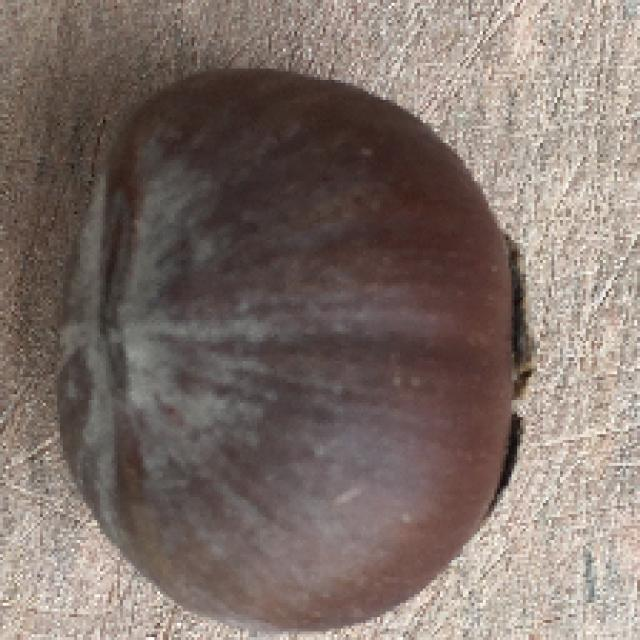damagedHazelnut: (49, 60, 534, 636)
